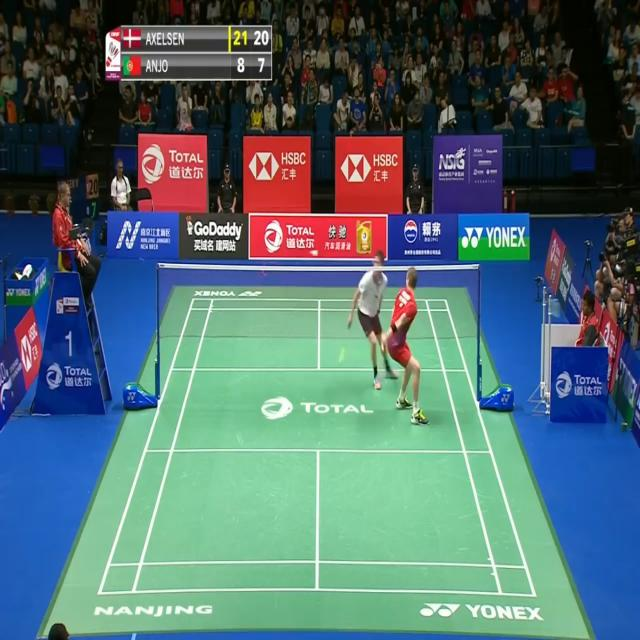Player1: (378, 260, 430, 432)
Player2: (334, 240, 400, 392)
